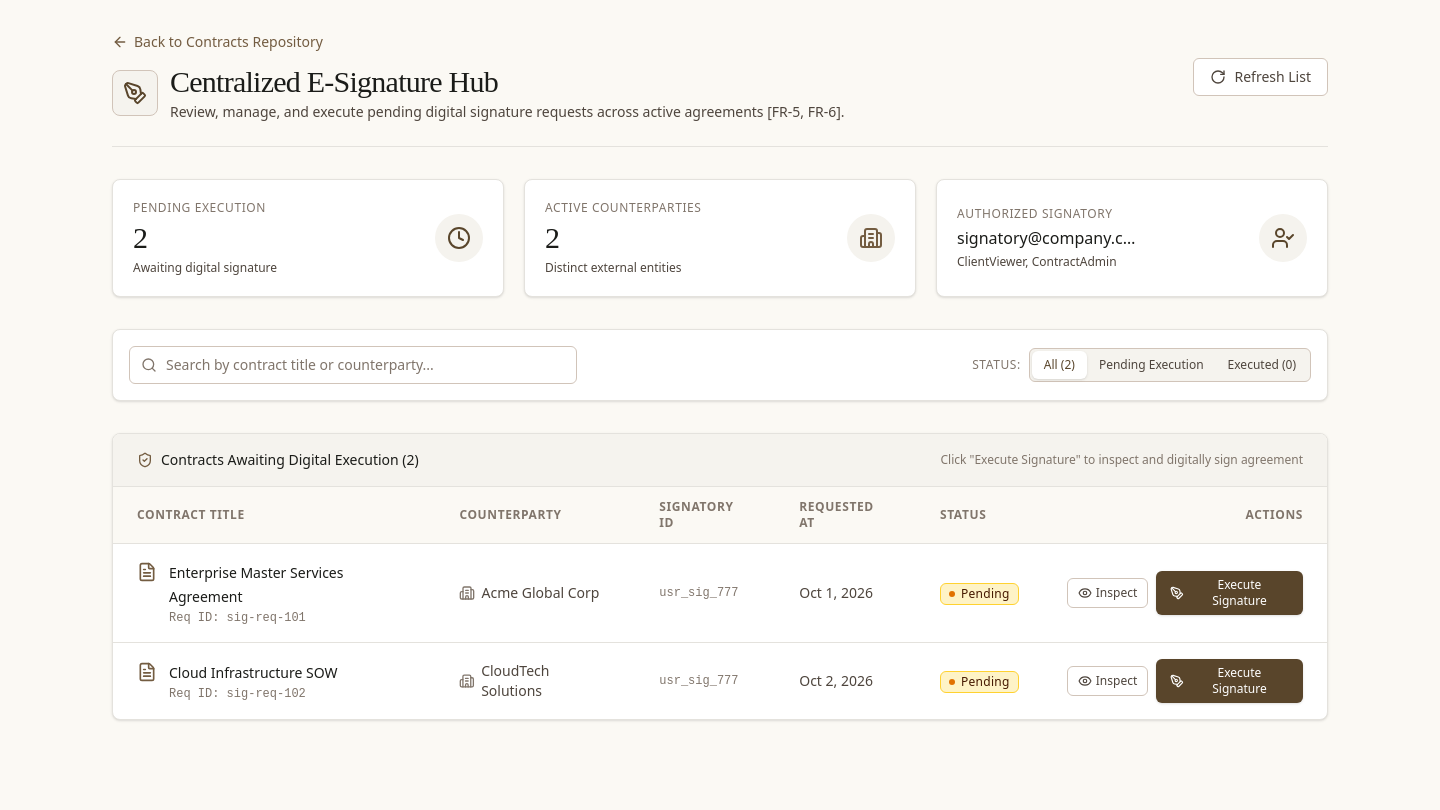
it: SignaturesHubPage Component [FR-5, FR-6, NFR-5] › opens signature modal on clicking execute signature button [FR-6]
What coordinates should you click on to do the following:
click the button with test id "sign-btn-sig-req-101"
I would click on:
 (1230, 593)
Its box is [1156,571,1303,615].
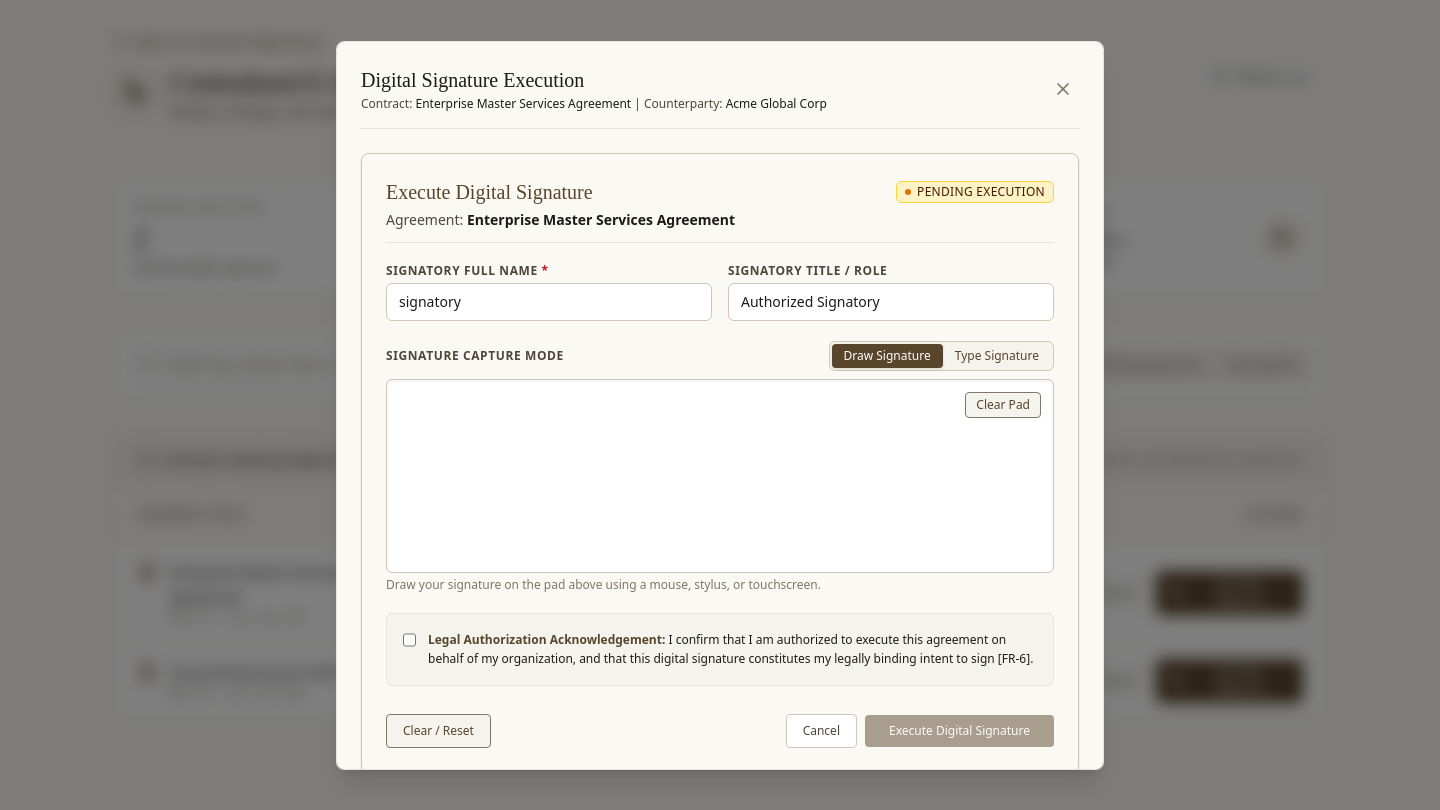
Expected: the dialog with test id "signature-modal" is shown
Expected: the heading "Digital Signature Execution" is shown, [361,68,584,90]
